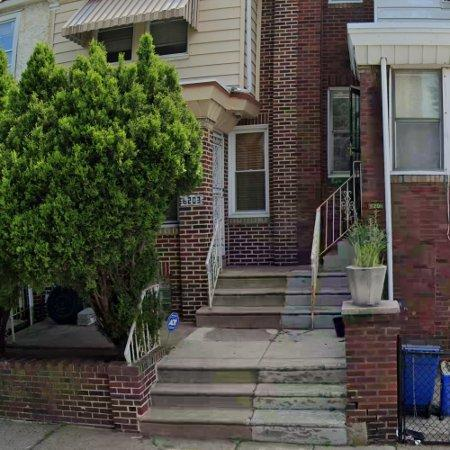stairs: (141, 329, 347, 446), (196, 268, 312, 329), (315, 272, 351, 329)
